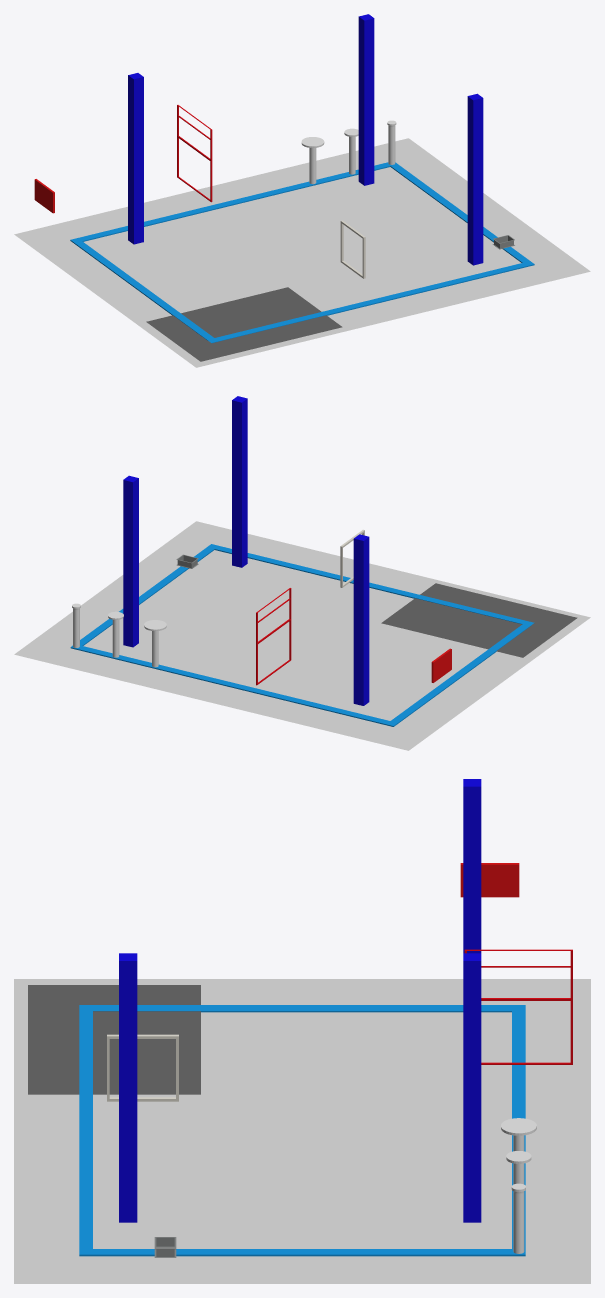
File: mundoImav.dae
3 renders of one model, top to bottom at view 1: azimuth 30°, elevation 25°; view 2: azimuth 150°, elevation 25°; view 3: azimuth 270°, elevation 25°, orthographic. The views are drawn at different scales.
Visible parts, largest first — view 1: Chão, Takeoff, Pilar.001, Pilar.002, Pilar, Linha 2, Linha 1, Linha 4, Linha 3, Cube.002, pilar50, AcrylicWindow (+1 smaller); view 2: Chão, Takeoff, Pilar, Pilar.001, Pilar.002, Linha 1, Linha 2, Linha 4, Linha 3, Cube.002, Cube, pilar50; view 3: Chão, Takeoff, Pilar.002, Pilar.001, Linha 2, Pilar, Linha 3, Linha 4, Linha 1, Cube, Cube.002, AcrylicWindow (+2 smaller).
Boxes of the visible parts, x1,y1,x2,y2 form: Chão: (14,138,590,367); Takeoff: (146,287,342,361); Pilar.001: (358,14,374,185); Pilar.002: (467,93,483,265); Pilar: (128,73,143,244); Linha 2: (208,261,534,343); Linha 1: (71,162,397,241); Linha 4: (70,239,215,340); Linha 3: (390,162,532,263); Cube.002: (177,105,212,202); pilar50: (301,137,324,184); AcrylicWindow: (340,220,365,278); Chão: (14,521,590,750); Takeoff: (381,583,577,657); Pilar: (353,534,369,705); Pilar.001: (123,475,138,647); Pilar.002: (232,396,247,567); Linha 1: (70,646,395,725); Linha 2: (207,544,534,625); Linha 4: (386,624,531,726); Linha 3: (72,545,214,647); Cube.002: (256,588,291,685); Cube: (431,648,451,682); pilar50: (144,620,166,667); Chão: (14,979,590,1283); Takeoff: (28,985,200,1094); Pilar.002: (119,953,137,1222); Pilar.001: (463,953,481,1222); Linha 2: (79,1005,92,1256); Pilar: (463,779,481,953); Linha 3: (84,1249,520,1256); Linha 4: (88,1005,525,1012); Linha 1: (512,1005,525,1256); Cube: (460,863,519,897); Cube.002: (464,949,572,1064); AcrylicWindow: (107,1034,178,1101).
Size of the model in its own units: 10.05 by 8 by 4.08.
